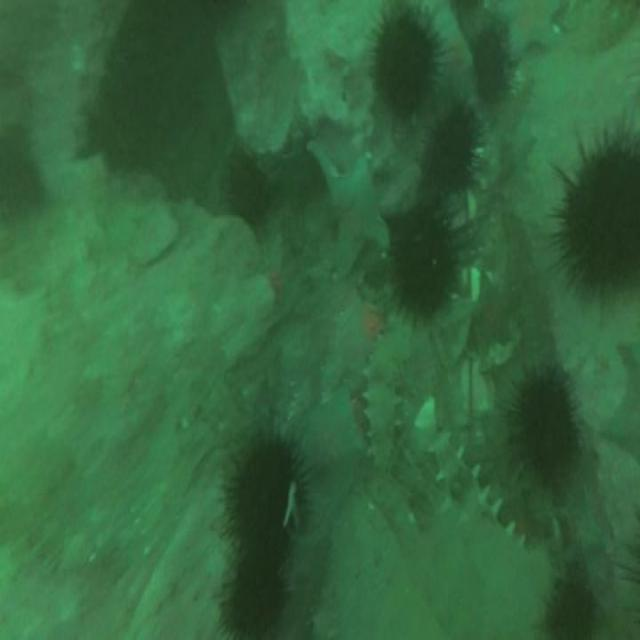echinus: (564, 146, 640, 284), (230, 439, 300, 552), (514, 376, 578, 480), (376, 8, 436, 111), (392, 215, 452, 316), (228, 552, 282, 638), (431, 110, 478, 192), (228, 157, 268, 229), (471, 26, 504, 96)
holothurian: (427, 432, 521, 540), (367, 329, 406, 469)
starfish: (307, 142, 388, 274), (487, 0, 559, 57)
